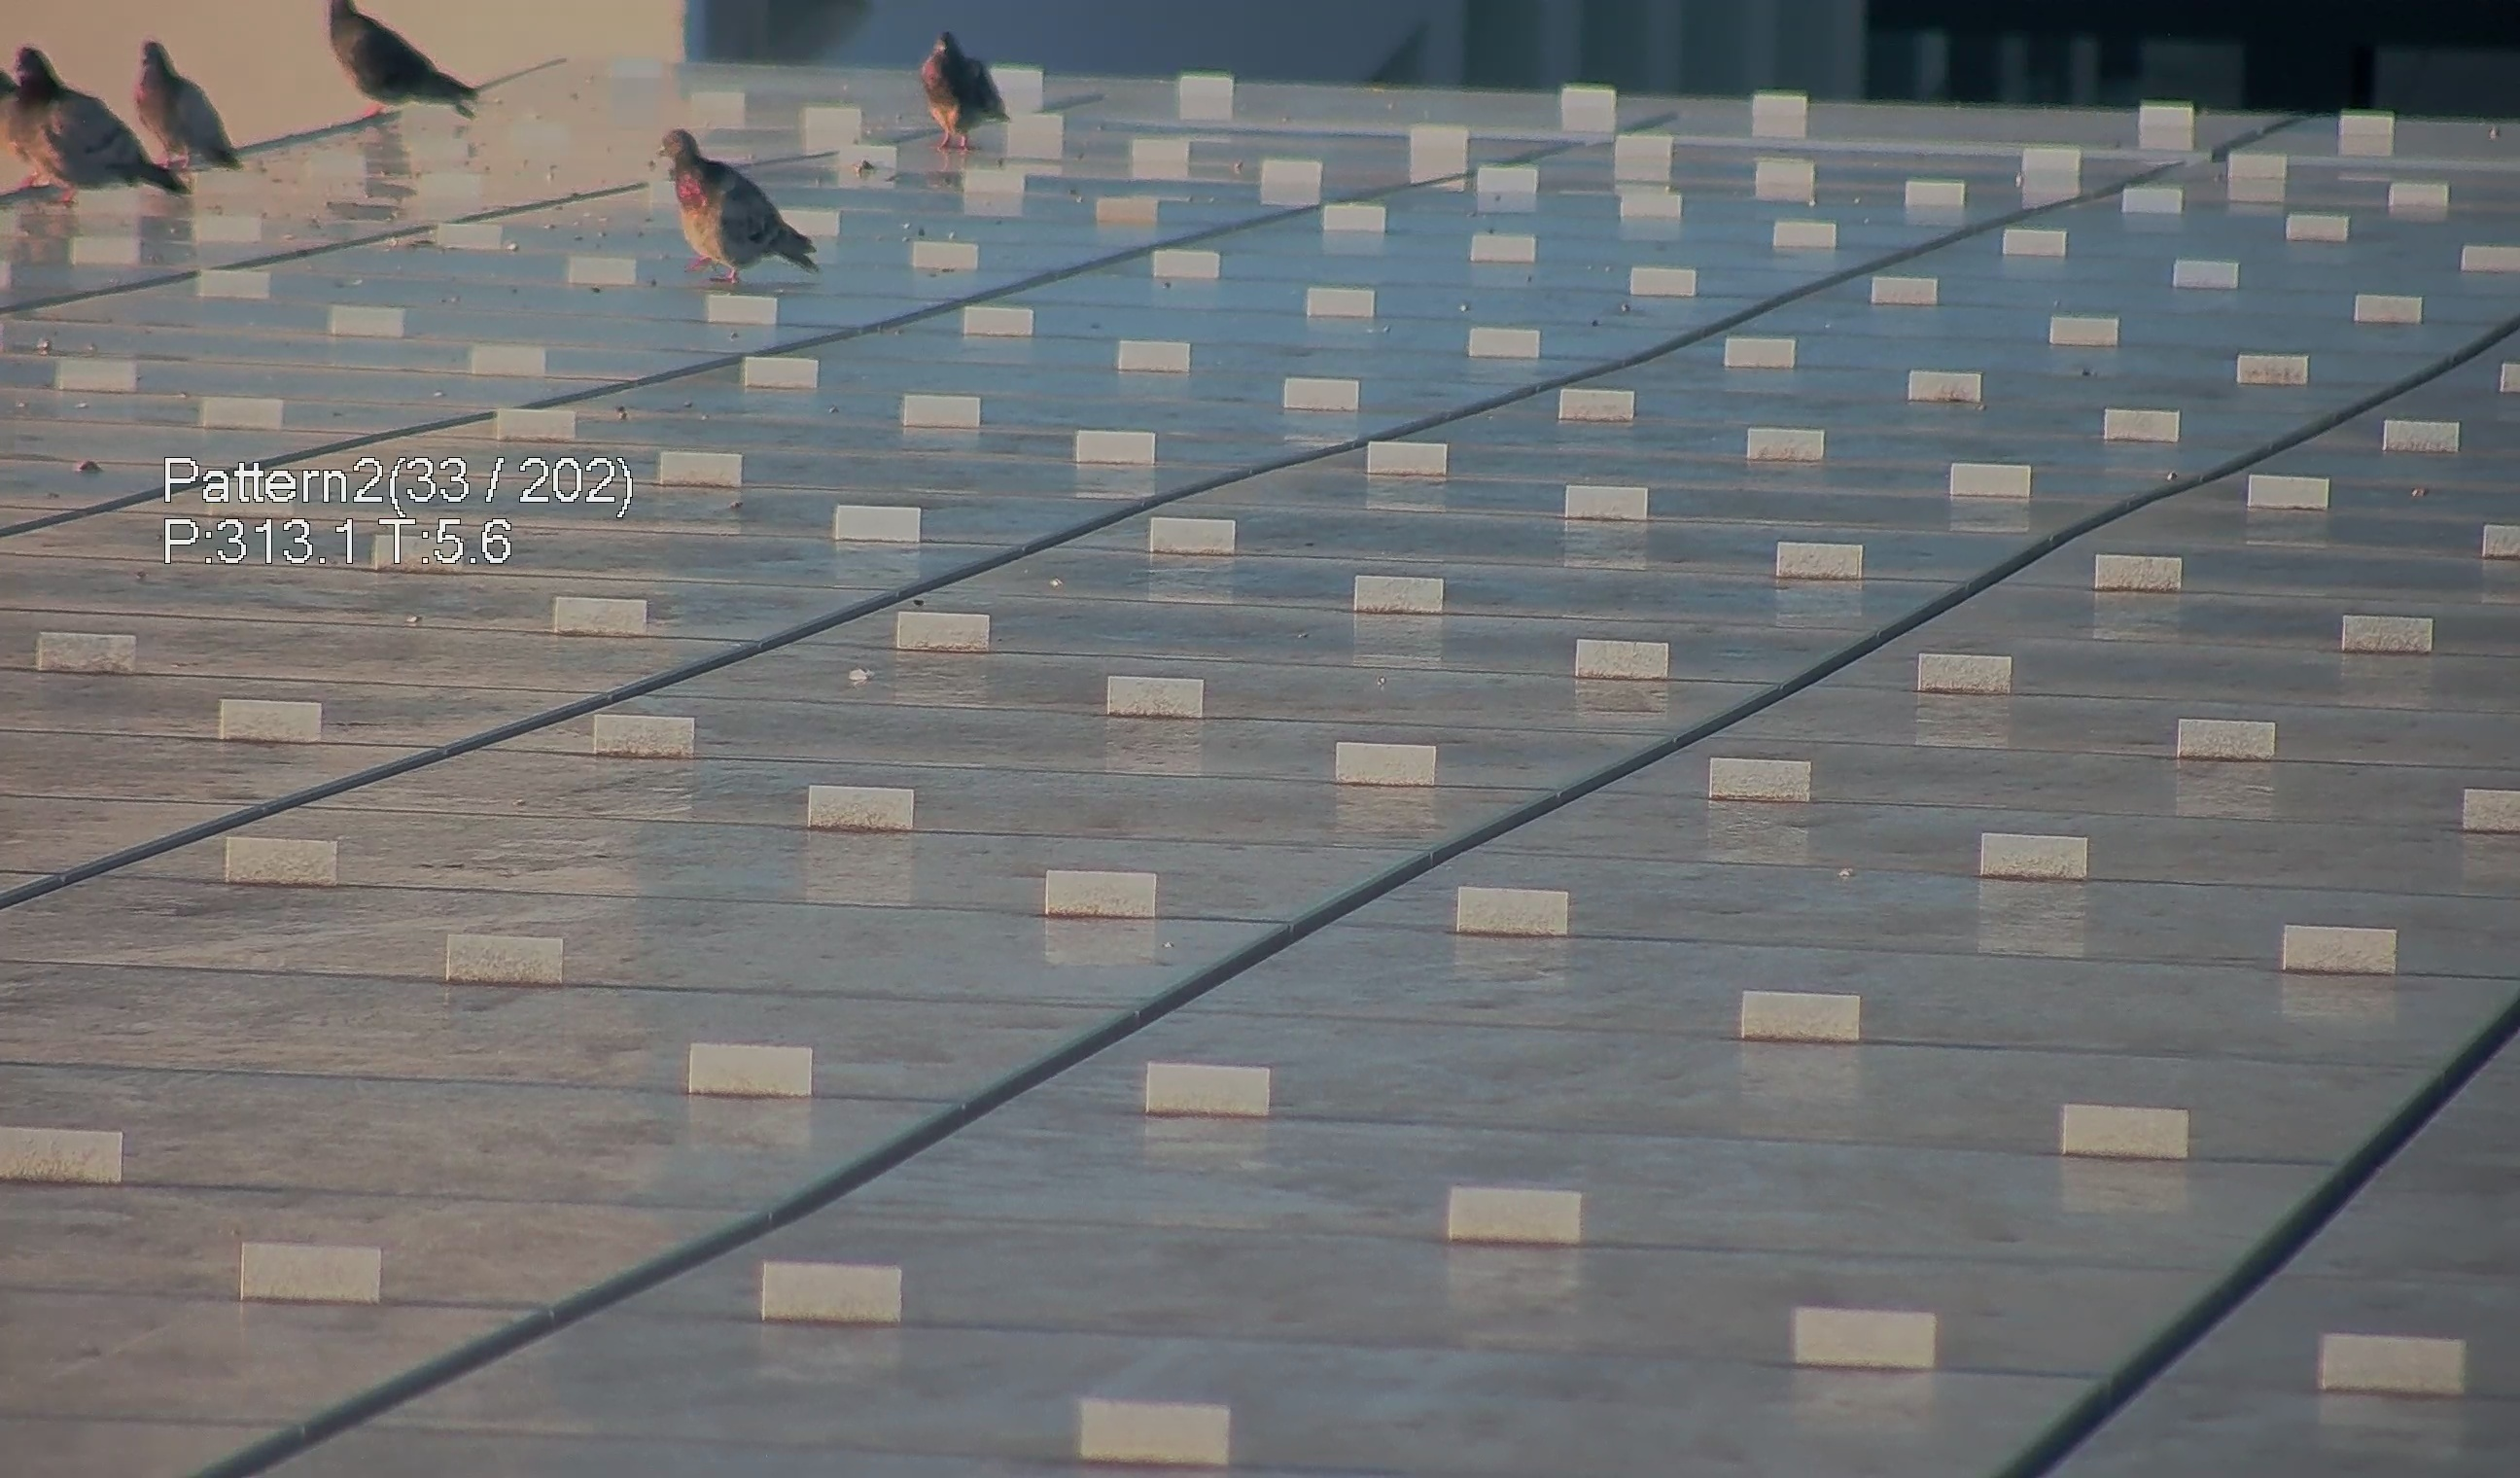Pigeon: (642, 116, 823, 292), (4, 42, 181, 208), (111, 21, 253, 178), (302, 0, 478, 118), (899, 14, 1008, 169)
